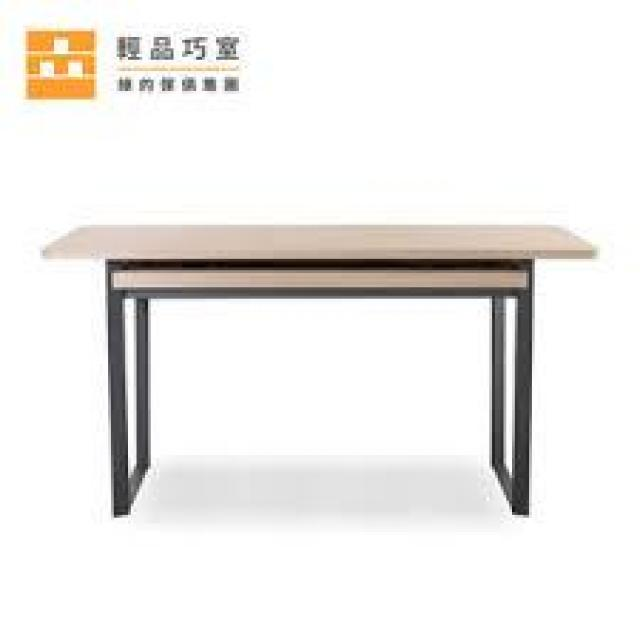table: (33, 161, 610, 556)
